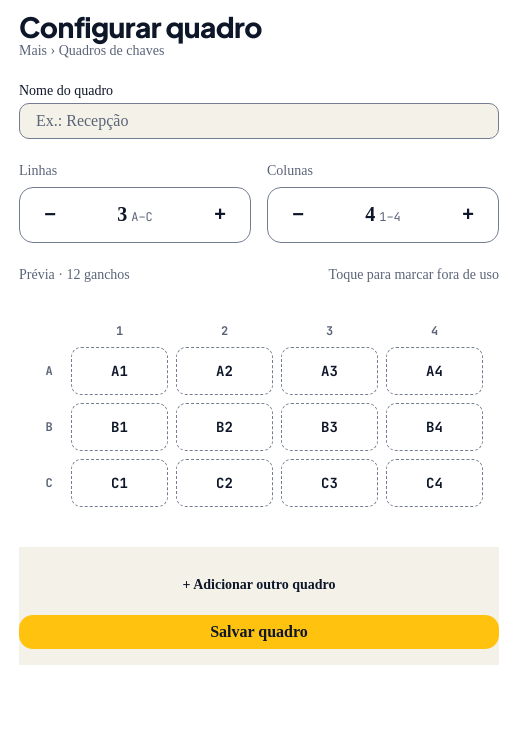
Test case: QuadroForm (criar) › outro erro do servidor aparece no banner
Type "Garagem" into the field labelled "Nome do quadro". click: point(259, 121)
box: [19,103,499,139]
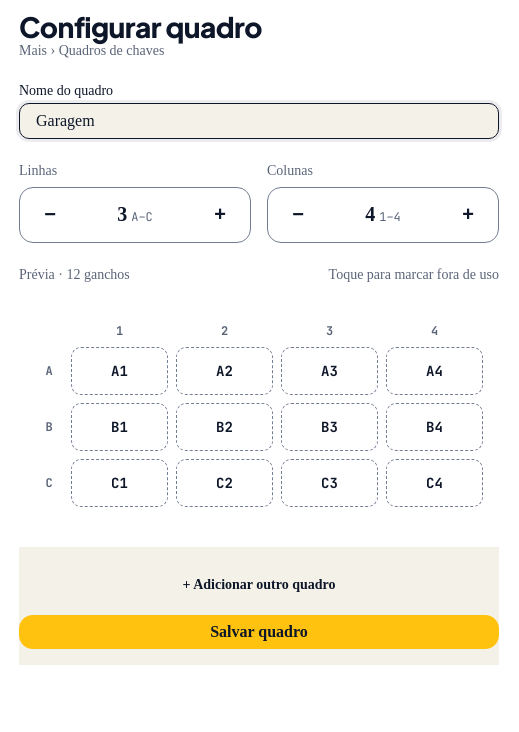
Click the button "Salvar quadro". click: point(259, 632)
box: [19,615,499,649]
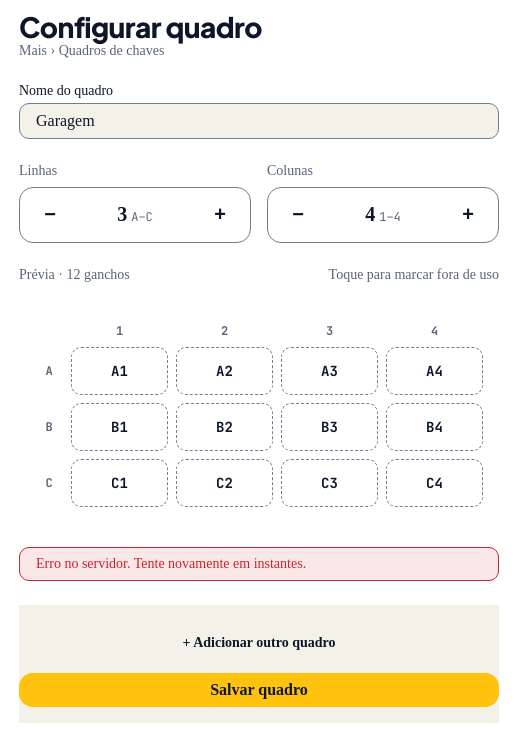
Expected: the message shows "Erro no servidor", [36,556,306,571]
